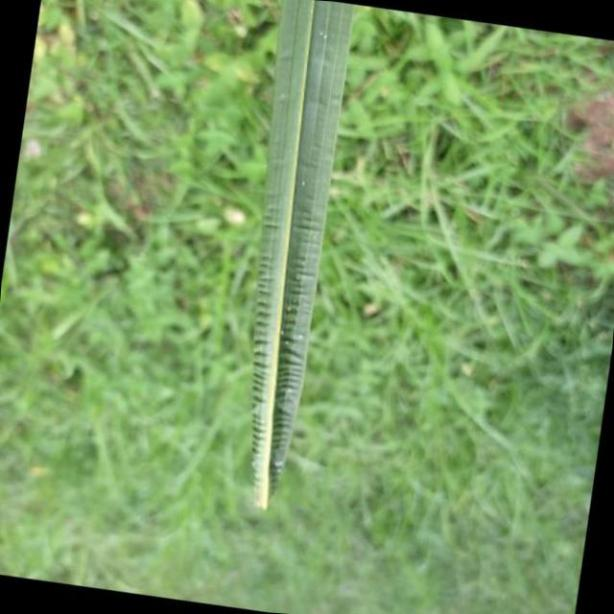Boron: (246, 0, 354, 518)
